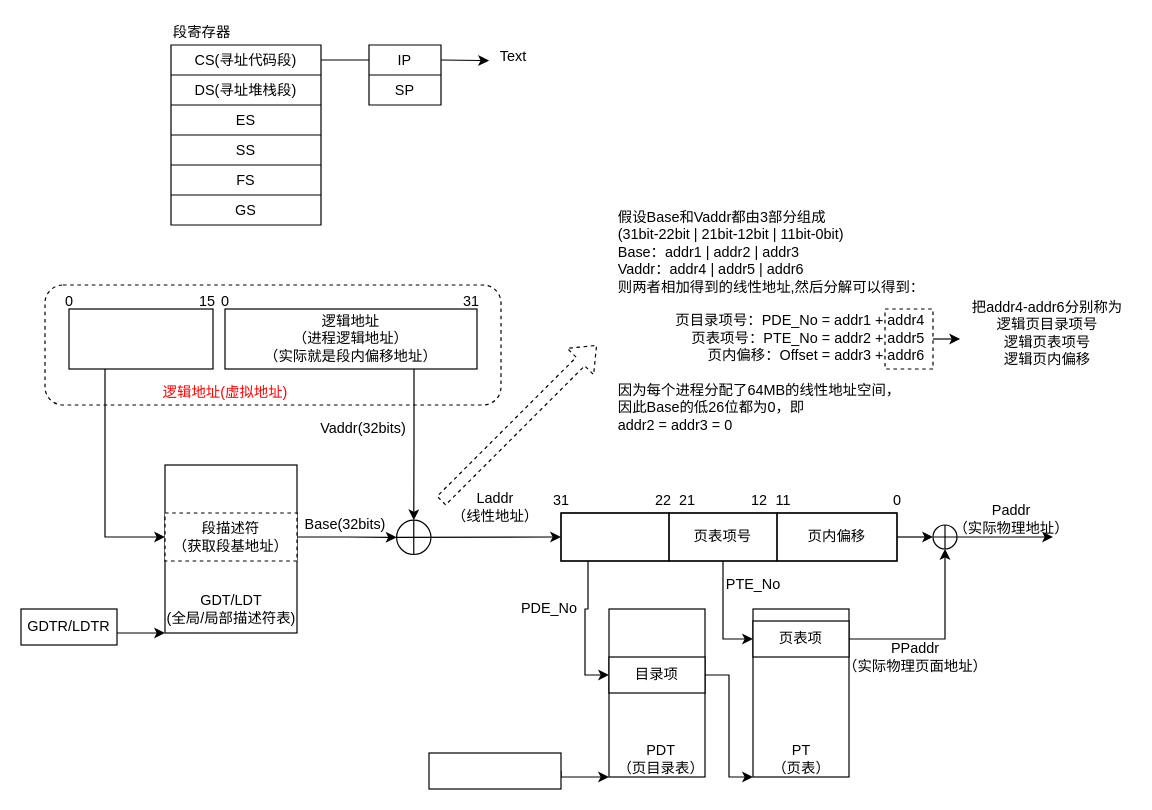
This 1152x810 diagram has some shape labels left out. Each missing label, with the centre of its shape:
CR3 (PDT物理基地址): pixel 494 770
段选择符 （从段寄存器获取）: pixel 140 338
页目录项号: pixel 614 536
